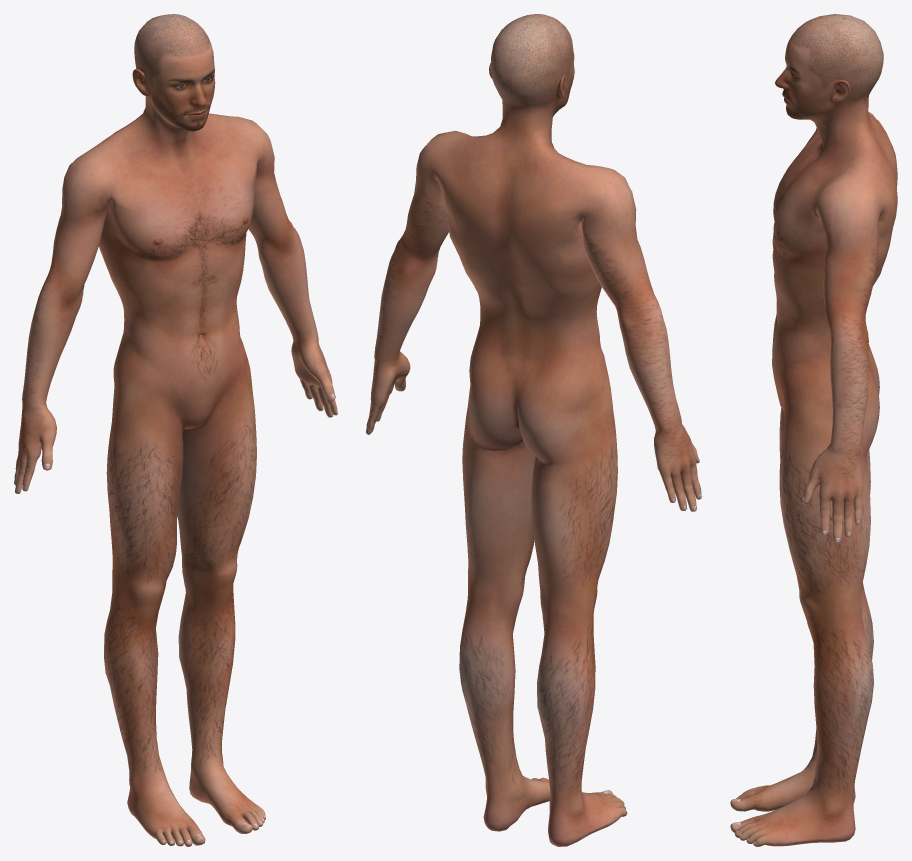
File: manBody.obj
3 views of the same model, side by side, from view 1: azimuth 30°, elevation 25°; view 2: azimuth 150°, elevation 25°; view 3: azimuth 270°, elevation 25° (orthographic). The views are drawn at different scales.
Visible parts, largest first — view 1: CC_Base_Body; view 2: CC_Base_Body; view 3: CC_Base_Body.
Boxes of the visible parts, x1,y1,x2,y2 form: CC_Base_Body: (14, 14, 337, 846); CC_Base_Body: (366, 14, 701, 846); CC_Base_Body: (730, 14, 897, 846).
Bounding box in the file's own units: 76.87 × 182 × 34.24.
